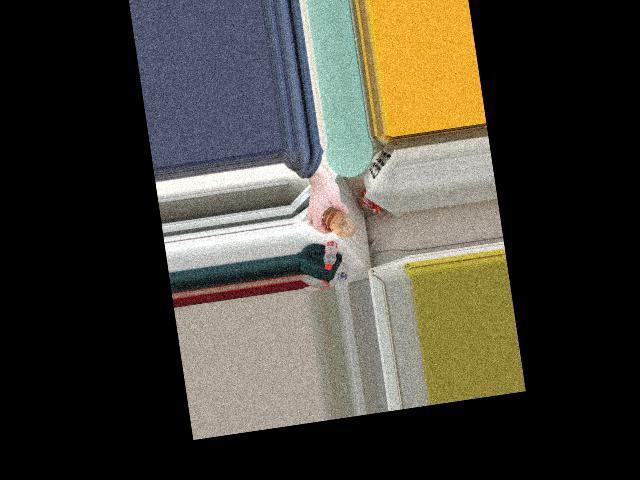sweet_potato: (321, 202, 354, 239)
